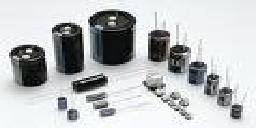Electrolytic Capacitor: (88, 6, 138, 66), (50, 22, 87, 75), (8, 43, 48, 89), (68, 72, 145, 91), (169, 23, 193, 82), (146, 9, 169, 67), (189, 32, 206, 94), (229, 84, 247, 122), (208, 55, 224, 97)
